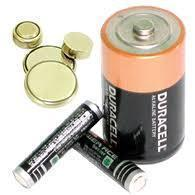AA: (11, 98, 104, 190), (71, 128, 149, 194)
COIN: (22, 58, 80, 110)
